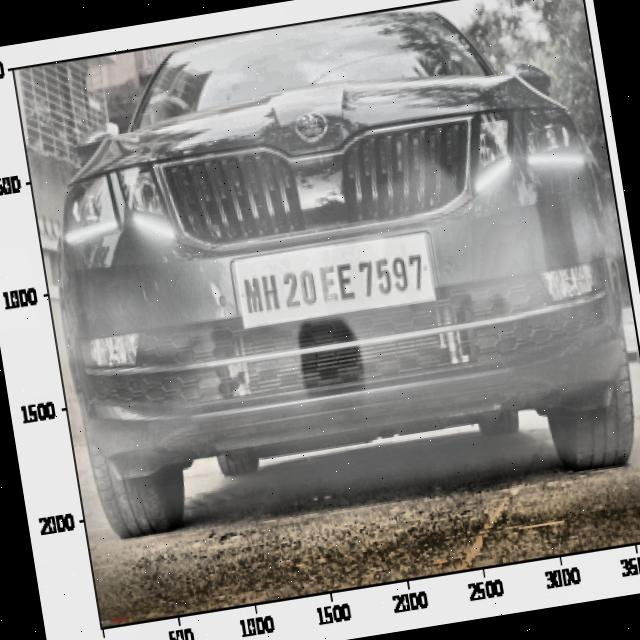license_plate: (236, 230, 435, 336)
